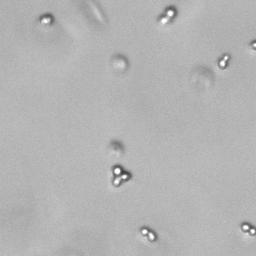budding: (107, 162, 136, 188), (158, 2, 178, 29), (136, 224, 161, 242), (214, 50, 233, 72), (237, 216, 256, 238)
individual: (36, 10, 54, 28), (248, 36, 256, 50)
